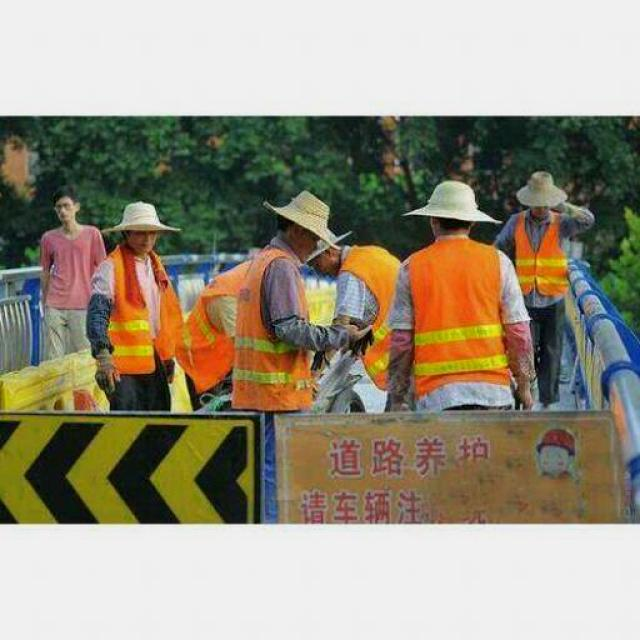face_nomask: (130, 226, 158, 254), (54, 201, 74, 224)
hand_glove: (90, 346, 124, 392)
head_nohelmet: (402, 178, 503, 236), (262, 185, 341, 259), (101, 201, 183, 255), (516, 170, 568, 209), (51, 186, 83, 206)
person: (380, 180, 530, 410), (229, 186, 343, 408), (496, 168, 598, 410), (84, 197, 196, 414), (32, 188, 109, 368)
vest: (408, 234, 518, 392), (174, 253, 268, 398), (238, 240, 316, 412), (104, 244, 184, 378), (338, 244, 402, 392), (514, 208, 572, 297)
